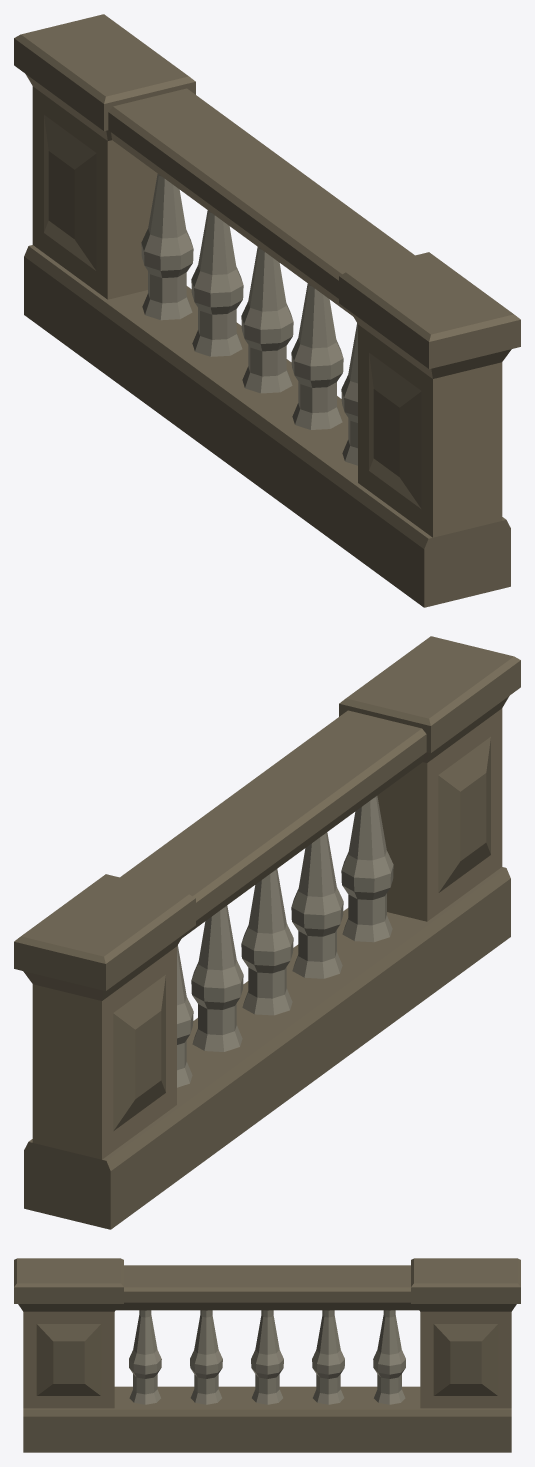
The model's file is Fence_2.fbx.
The picture shows the model from 3 angles, top to bottom: view 1: azimuth 30°, elevation 25°; view 2: azimuth 150°, elevation 25°; view 3: azimuth 270°, elevation 25°; orthographic projection. The views are drawn at different scales.
Visible parts, largest first — view 1: Fence_2; view 2: Fence_2; view 3: Fence_2.
Boxes of the visible parts, x1=… form: Fence_2: x1=14, y1=14, x2=520, y2=607; Fence_2: x1=14, y1=636, x2=520, y2=1229; Fence_2: x1=14, y1=1258, x2=520, y2=1452.
Size of the model in its own units: 21.21 by 61 by 166.
